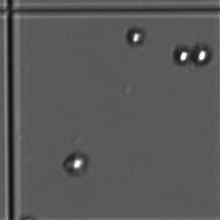Living Cell: (69, 155, 84, 170), (176, 48, 189, 65), (195, 47, 209, 62), (130, 30, 141, 44)
